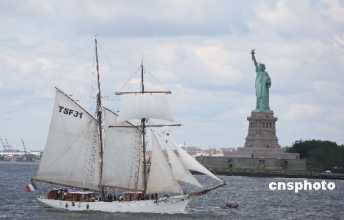fanchuan: (23, 34, 225, 212)
